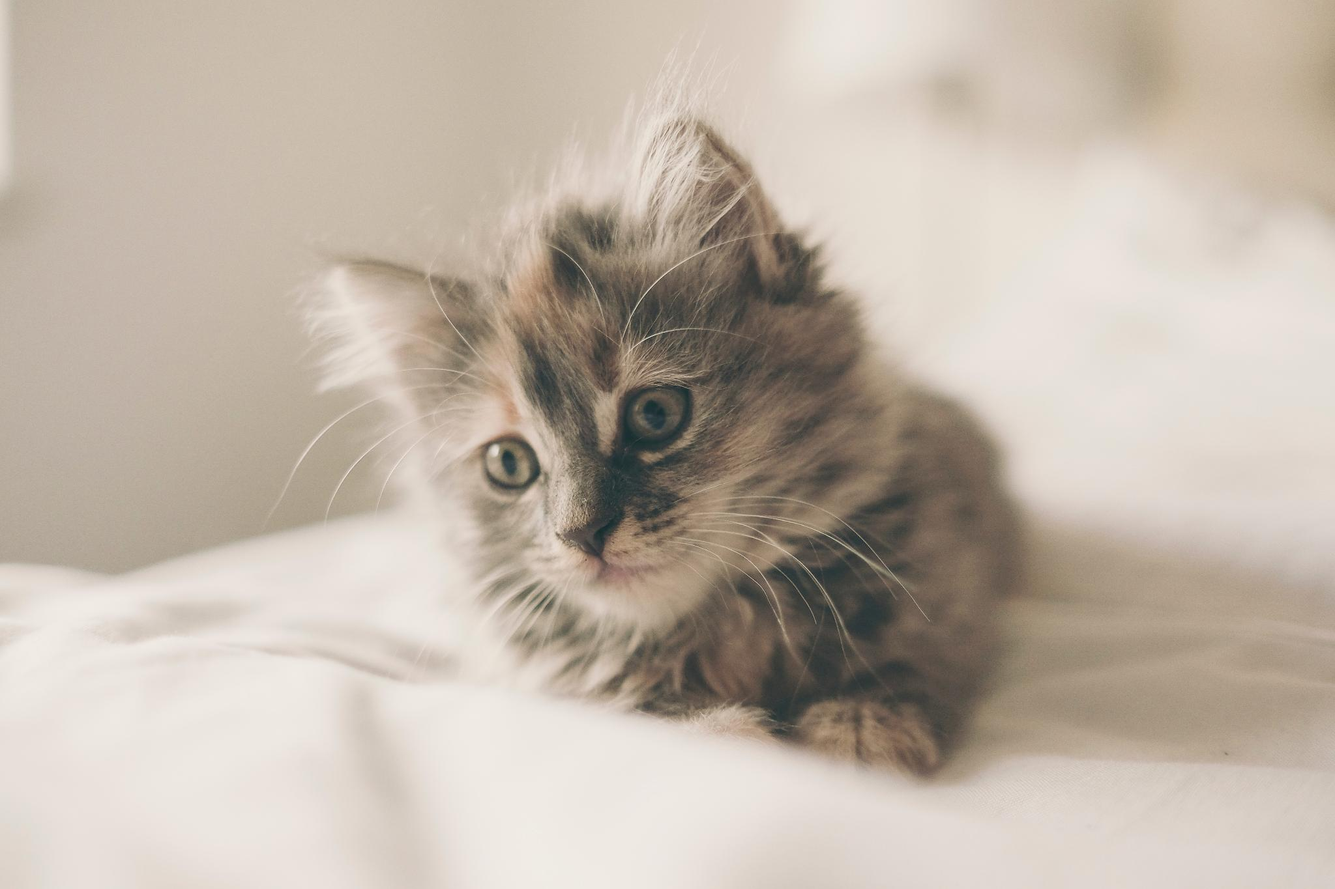cat: (260, 37, 1031, 784)
